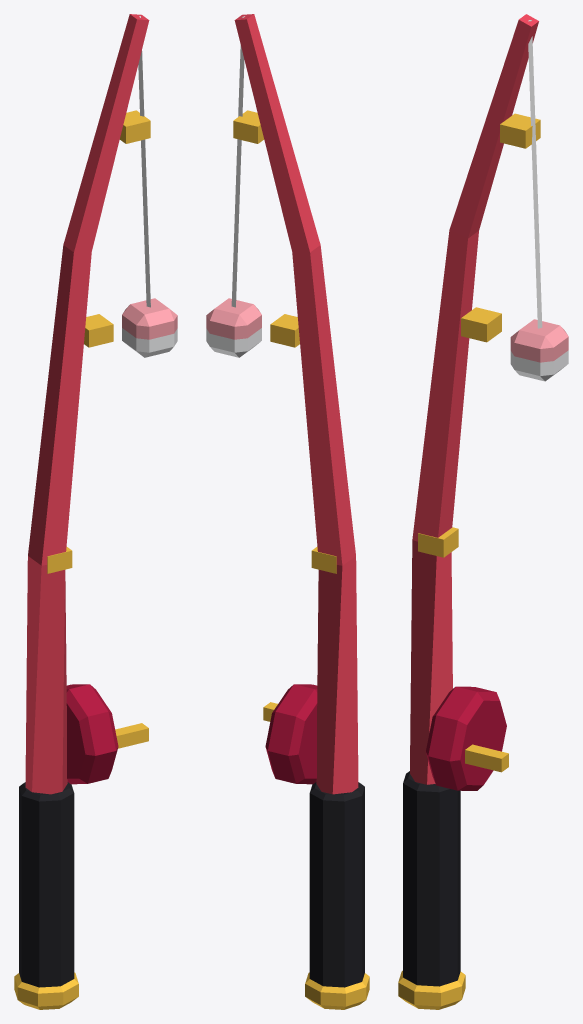
Rendered from RubyFishingRod.fbx.
3 views of the same model, side by side, from view 1: azimuth 30°, elevation 25°; view 2: azimuth 150°, elevation 25°; view 3: azimuth 330°, elevation 25° (orthographic). The views are drawn at different scales.
Visible parts, largest first — view 1: RubyFishingRod; view 2: RubyFishingRod; view 3: RubyFishingRod.
Boxes of the visible parts, x1,y1,x2,y2 form: RubyFishingRod: (14, 14, 177, 1009); RubyFishingRod: (206, 14, 369, 1009); RubyFishingRod: (398, 14, 568, 1009).
Size of the model in its own units: 0.74 by 4.45 by 0.44.
1 material, 1 textured.
